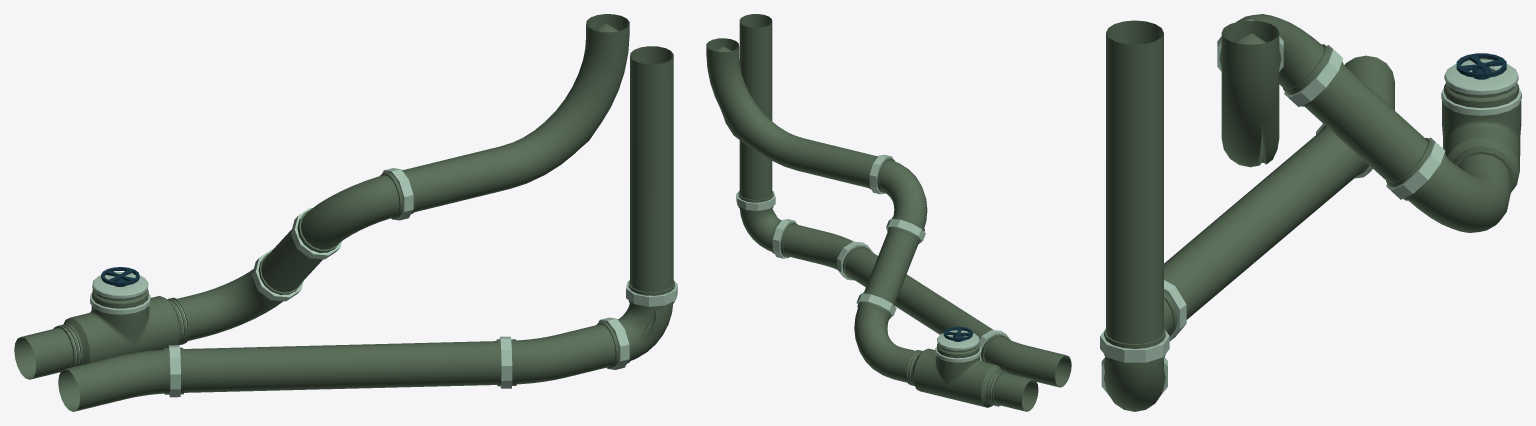
File: PipeComplexLarge_A1_21.fbx
3 views of the same model, side by side, from view 1: azimuth 30°, elevation 25°; view 2: azimuth 150°, elevation 25°; view 3: azimuth 270°, elevation 25° (orthographic). The views are drawn at different scales.
Parts seen in each view (by area): view 1: PipeComplexLarge_A1_21.001; view 2: PipeComplexLarge_A1_21.001; view 3: PipeComplexLarge_A1_21.001.
Part boxes in pixels (x1,y1,x2,y2): PipeComplexLarge_A1_21.001: (14,14,677,411); PipeComplexLarge_A1_21.001: (706,14,1071,411); PipeComplexLarge_A1_21.001: (1100,14,1521,411).
Bounding box in the file's own units: 2.71 × 1.53 × 1.46.
